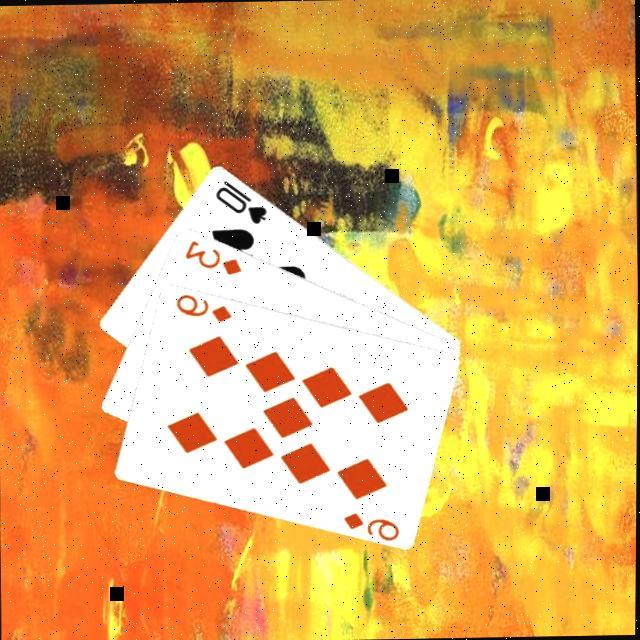10S: (210, 178, 269, 229)
3D: (180, 237, 244, 280)
9D: (171, 292, 234, 327), (339, 509, 402, 544)
